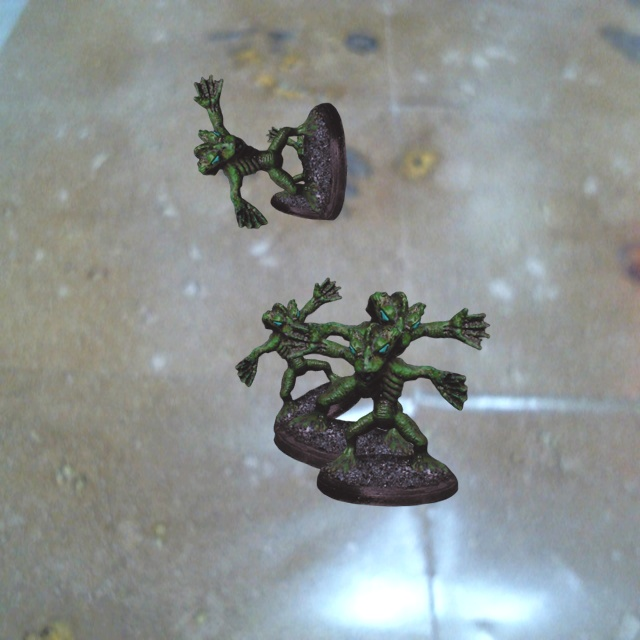pieza_juego: (274, 291, 489, 480), (281, 322, 467, 506), (193, 75, 346, 228), (235, 277, 364, 438), (266, 126, 347, 219)
